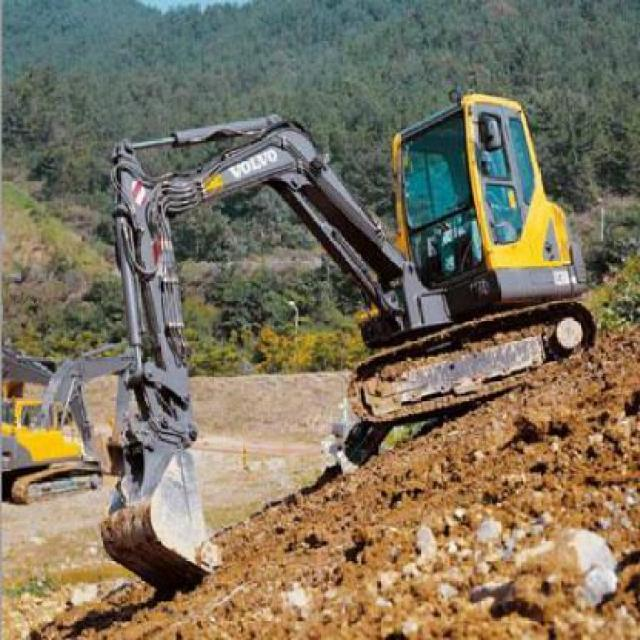Excavator: (99, 90, 598, 592), (1, 352, 104, 499)
